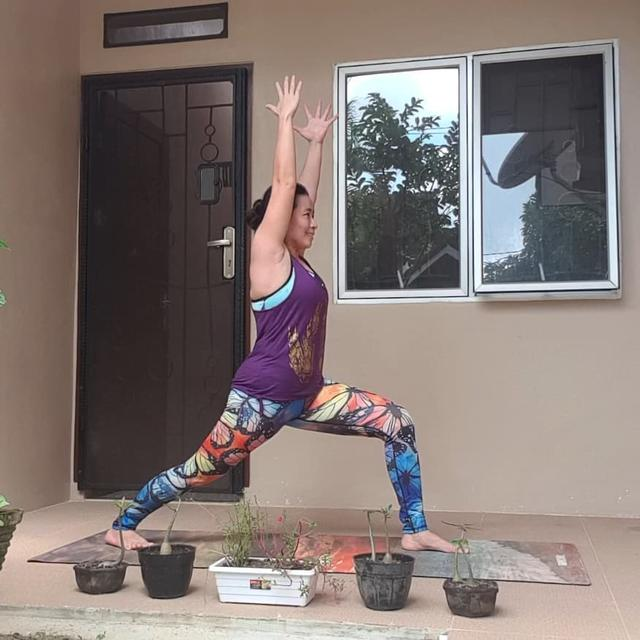Warrior_I: (96, 85, 480, 559)
